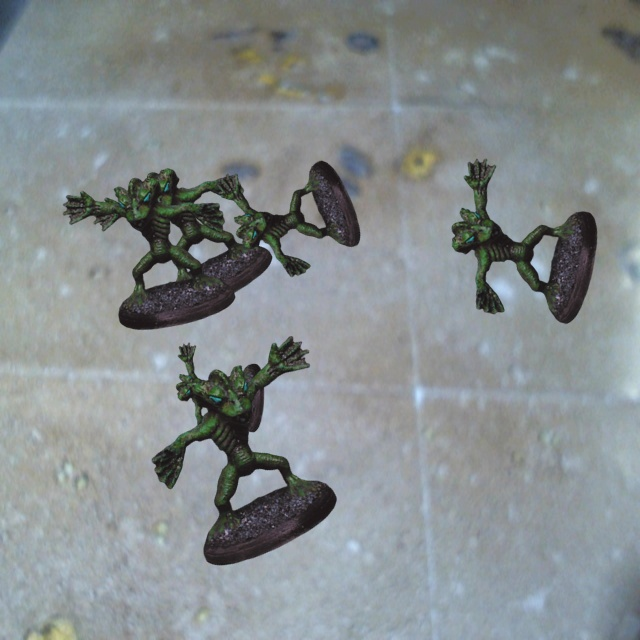pieza_juego: (152, 336, 336, 565), (63, 178, 234, 329), (91, 168, 271, 311), (451, 158, 596, 323), (217, 161, 360, 276), (176, 343, 263, 433)
